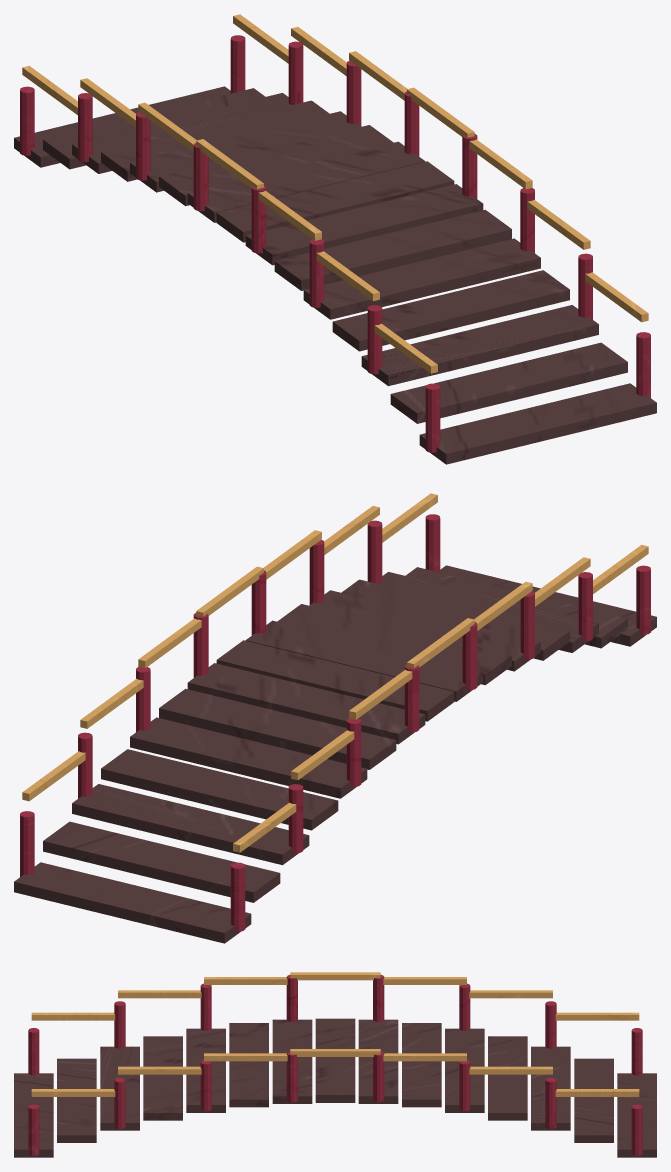
Rendered from moonfall_arch_bridge.obj.
The picture shows the model from 3 angles, top to bottom: view 1: azimuth 30°, elevation 25°; view 2: azimuth 150°, elevation 25°; view 3: azimuth 270°, elevation 25°; orthographic projection. The views are drawn at different scales.
Parts seen in each view (by area): view 1: geometry_14, geometry_13, geometry_10, geometry_11, geometry_12, geometry_9, geometry_8, geometry_7, geometry_6, geometry_5, geometry_4, geometry_3 (+33 smaller); view 2: geometry_0, geometry_1, geometry_4, geometry_3, geometry_2, geometry_5, geometry_6, geometry_7, geometry_8, geometry_9, geometry_10, geometry_11 (+33 smaller); view 3: geometry_7, geometry_3, geometry_5, geometry_9, geometry_11, geometry_1, geometry_13, geometry_0, geometry_14, geometry_6, geometry_8, geometry_4 (+33 smaller).
Part boxes in pixels (box(x1,y1,x2,y2)): geometry_14: box(419, 383, 656, 464); geometry_13: box(390, 342, 627, 423); geometry_10: box(303, 238, 540, 319); geometry_11: box(332, 270, 569, 351); geometry_12: box(361, 305, 598, 386); geometry_9: box(274, 209, 511, 290); geometry_8: box(245, 184, 483, 265); geometry_7: box(216, 161, 454, 242); geometry_6: box(187, 141, 425, 222); geometry_5: box(159, 125, 393, 206); geometry_4: box(130, 111, 361, 192); geometry_3: box(101, 100, 329, 181); geometry_0: box(14, 862, 251, 943); geometry_1: box(43, 821, 280, 902); geometry_4: box(130, 717, 367, 798); geometry_3: box(101, 749, 338, 830); geometry_2: box(72, 784, 309, 865); geometry_5: box(159, 688, 396, 769); geometry_6: box(187, 663, 425, 744); geometry_7: box(216, 640, 454, 721); geometry_8: box(245, 620, 483, 701); geometry_9: box(277, 604, 511, 685); geometry_10: box(309, 590, 540, 671); geometry_11: box(341, 579, 569, 660); geometry_7: box(315, 1018, 355, 1102); geometry_3: box(488, 1036, 527, 1120); geometry_5: box(402, 1023, 441, 1107); geometry_9: box(229, 1023, 268, 1107); geometry_11: box(143, 1036, 182, 1120); geometry_1: box(574, 1058, 613, 1142); geometry_13: box(57, 1058, 96, 1142); geometry_0: box(617, 1073, 656, 1157); geometry_14: box(14, 1073, 53, 1157); geometry_6: box(358, 1019, 398, 1103); geometry_8: box(272, 1019, 312, 1103); geometry_4: box(445, 1028, 484, 1112).
Size of the model in its own units: 4.45 by 2.75 by 14.92.
3 materials, 3 textured.
